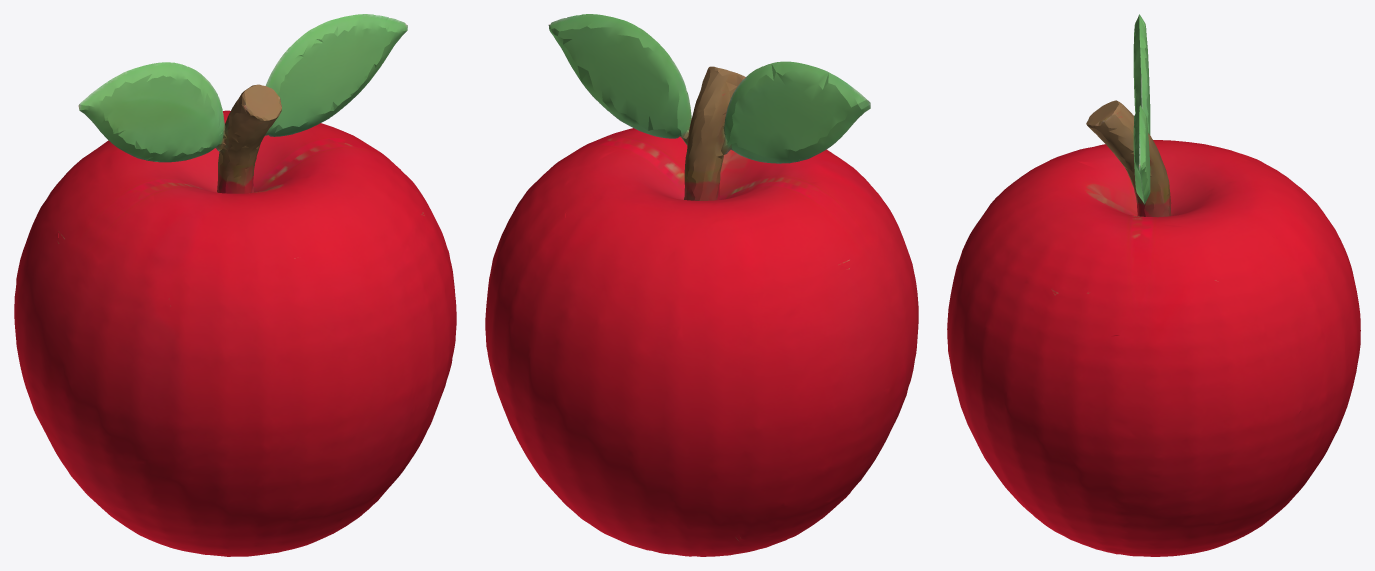
Rendered from fruit_apple.glb.
The picture shows the model from 3 angles, left to right: view 1: azimuth 30°, elevation 25°; view 2: azimuth 150°, elevation 25°; view 3: azimuth 270°, elevation 25°; orthographic projection. The views are drawn at different scales.
Parts seen in each view (by area): view 1: fruit_apple; view 2: fruit_apple; view 3: fruit_apple.
Part boxes in pixels (x1,y1,x2,y2): fruit_apple: (14, 14, 456, 556); fruit_apple: (485, 14, 918, 556); fruit_apple: (947, 14, 1360, 556).
Size of the model in its own units: 0.8333 by 1 by 0.8325.
Materials: 1 (1 with a texture image).
